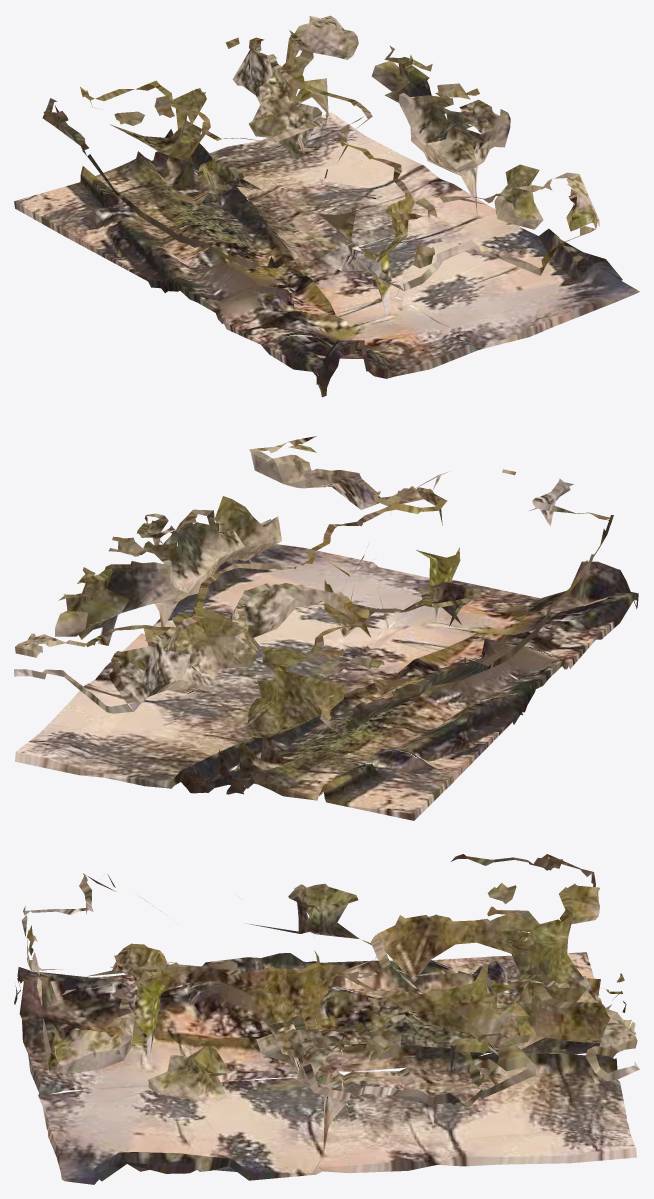
The picture shows the model from 3 angles, top to bottom: view 1: azimuth 30°, elevation 25°; view 2: azimuth 150°, elevation 25°; view 3: azimuth 270°, elevation 25°; orthographic projection. The views are drawn at different scales.
Parts seen in each view (by area): view 1: Mesh_0; view 2: Mesh_0; view 3: Mesh_0.
Part boxes in pixels (x1,y1,x2,y2): Mesh_0: [14, 15, 639, 397]; Mesh_0: [14, 436, 638, 820]; Mesh_0: [14, 854, 639, 1184].
Size of the model in its own units: 33.29 by 10.27 by 41.47.
2 materials, 2 textured.
